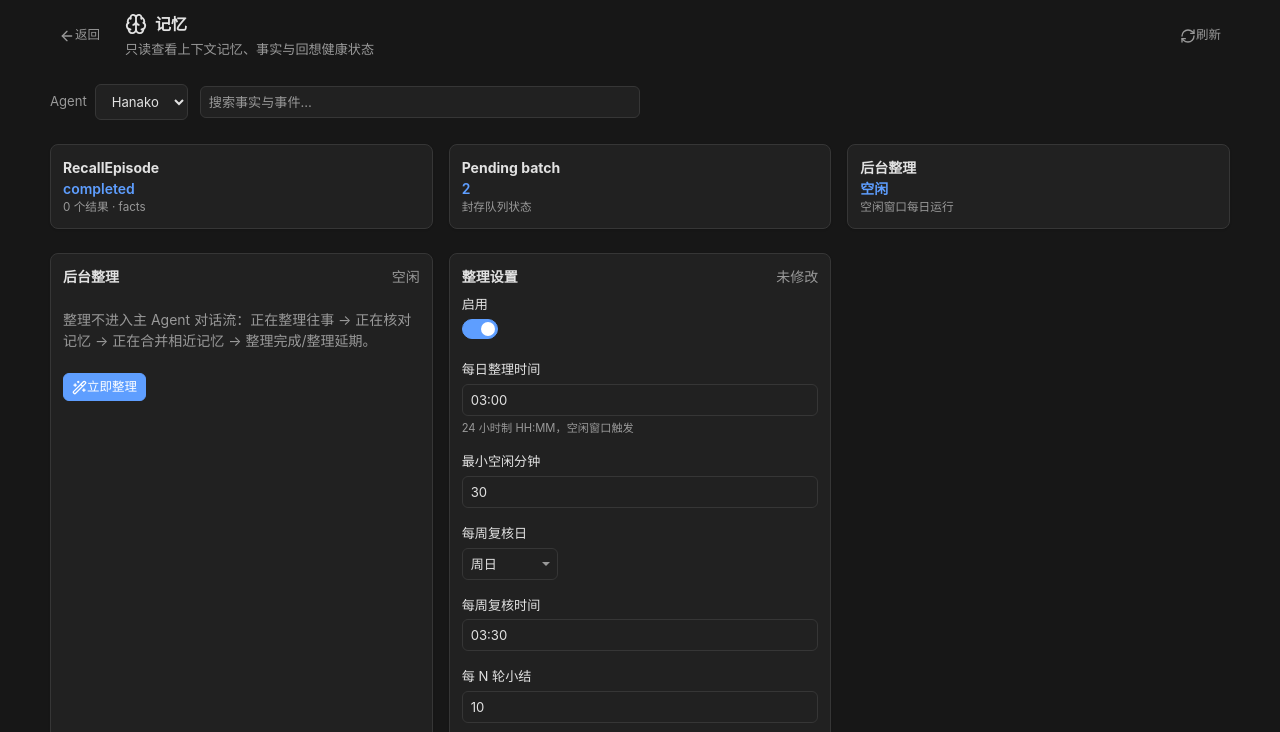
Test: MemoryPage › queues a deep-dive run and shows 已排队
Click the button "立即整理": (104, 387) [63,373,146,401]
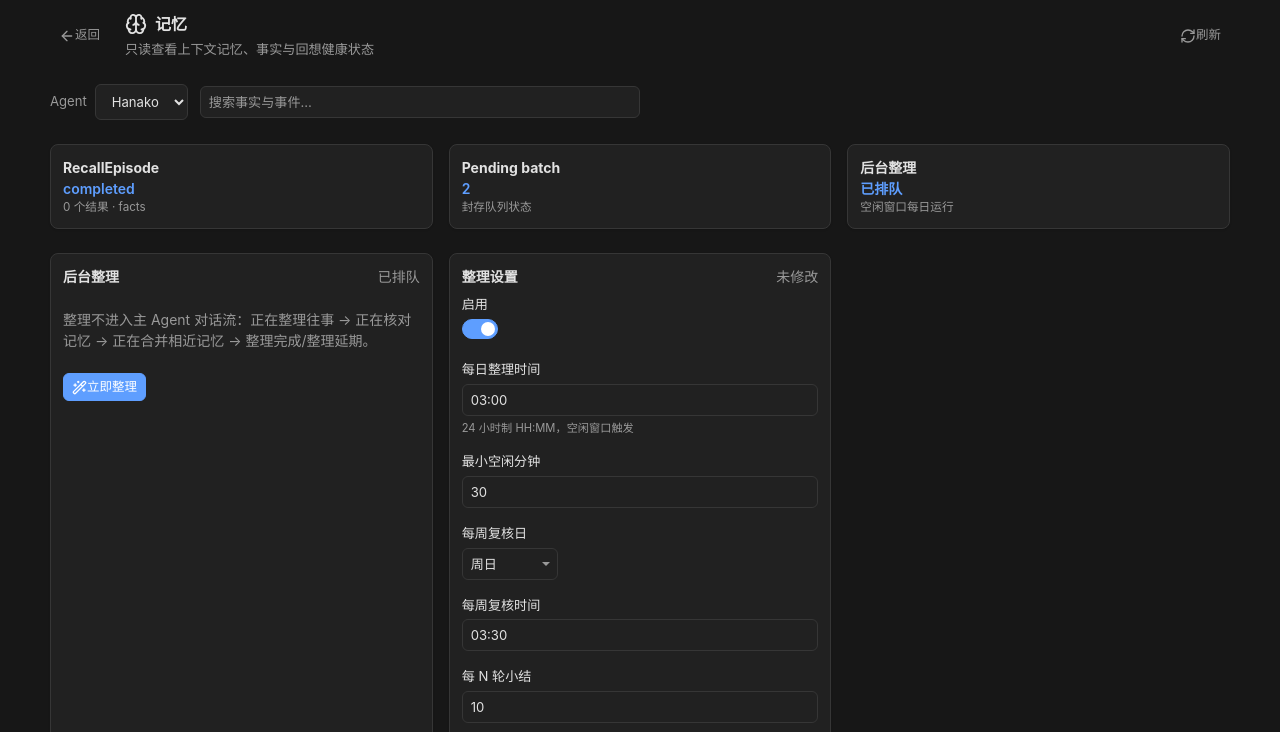
Expected: the text "已排队" in the row of "completed" is shown, [860,180,902,197]
